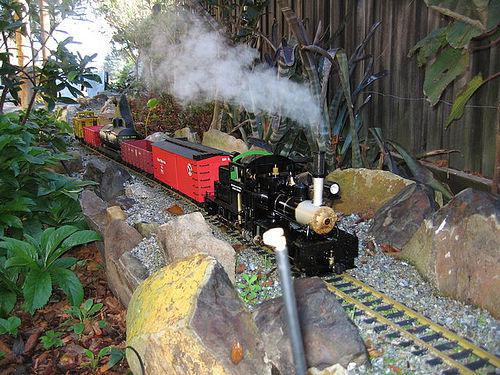Train: (68, 104, 363, 280)
